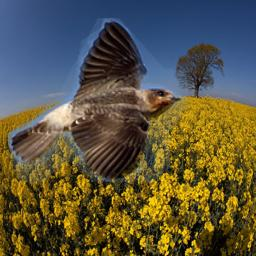Swallow: (8, 18, 188, 182)
